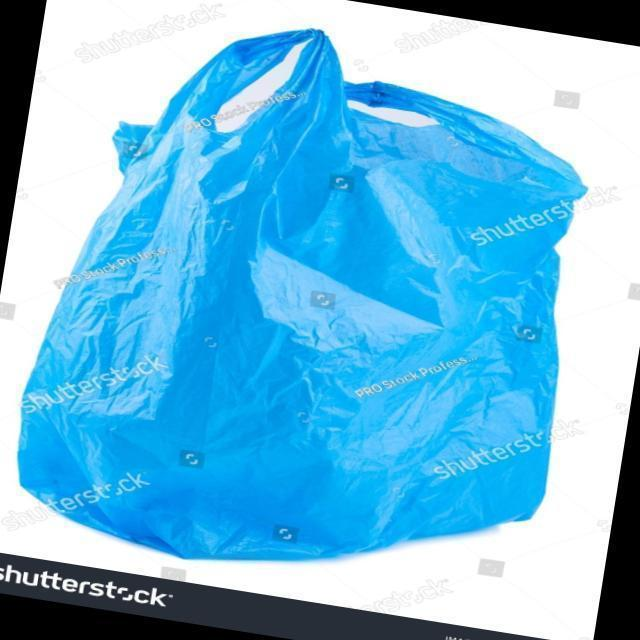Plastic_Bag: (9, 4, 616, 609)
